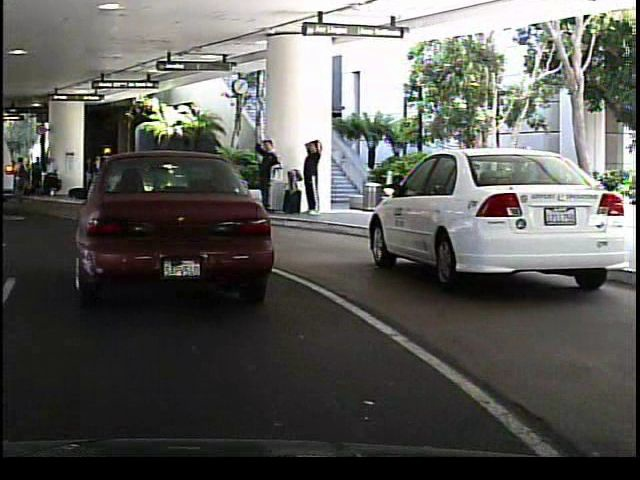person: (249, 131, 278, 215), (298, 133, 323, 218), (302, 148, 324, 212), (142, 155, 160, 196)
